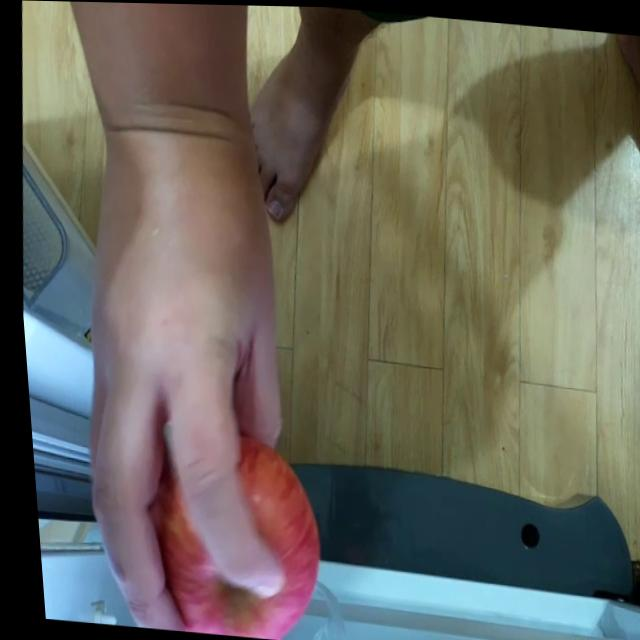apple: (145, 431, 326, 640)
